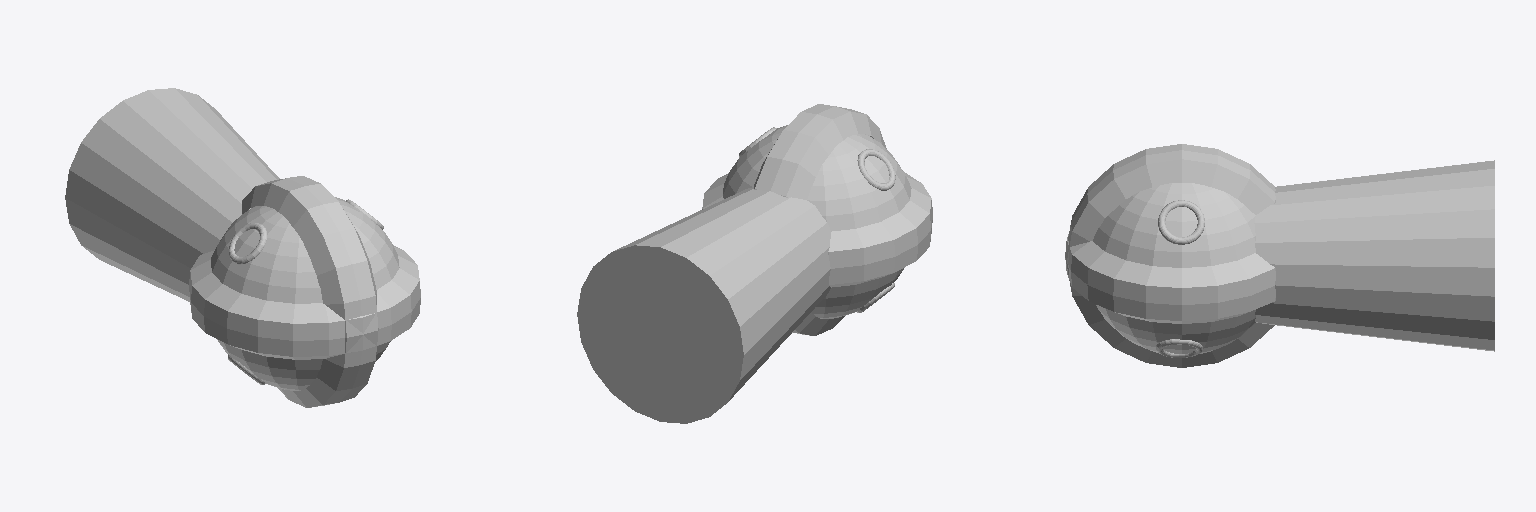
The model's file is Tower-CANNON.obj.
3 renders of one model, left to right at view 1: azimuth 30°, elevation 25°; view 2: azimuth 150°, elevation 25°; view 3: azimuth 270°, elevation 25°, orthographic.
Parts seen in each view (by area): view 1: initialShadingGroup pCylinder2; view 2: initialShadingGroup pCylinder2; view 3: initialShadingGroup pCylinder2.
Part boxes in pixels (bbox=[...]): initialShadingGroup pCylinder2: bbox=[65, 88, 420, 407]; initialShadingGroup pCylinder2: bbox=[577, 104, 932, 423]; initialShadingGroup pCylinder2: bbox=[1065, 144, 1494, 367].
Size of the model in its own units: 1.17 by 1.17 by 2.14.